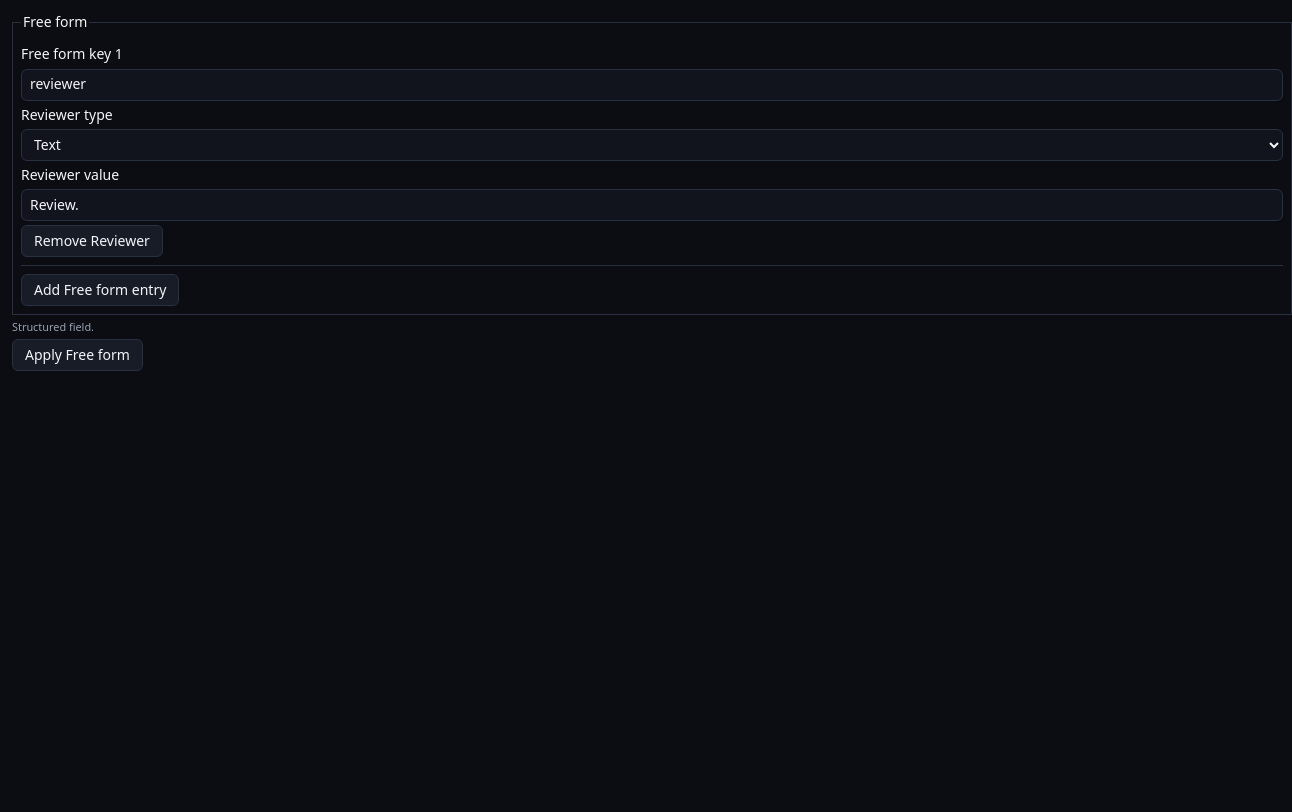
Test: recursive structured inspector controls › allows dynamic keys when additionalProperties is omitted and still enforces duplicate and property-name rules
Click the button "Add Free form entry" at (100, 290), box [21,274,179,306]
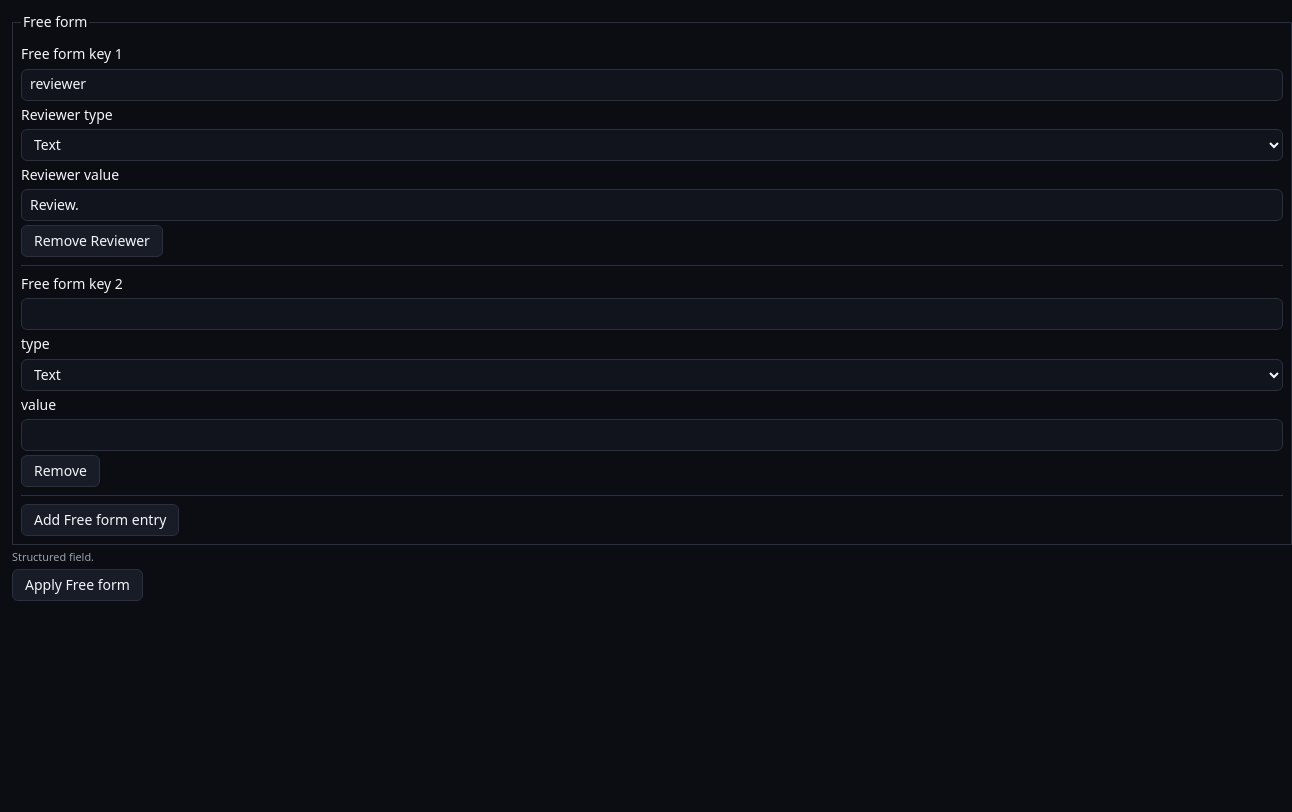
Type "reviewer" into the field labelled "Free form key 2" at (652, 314), box [21,298,1283,330]
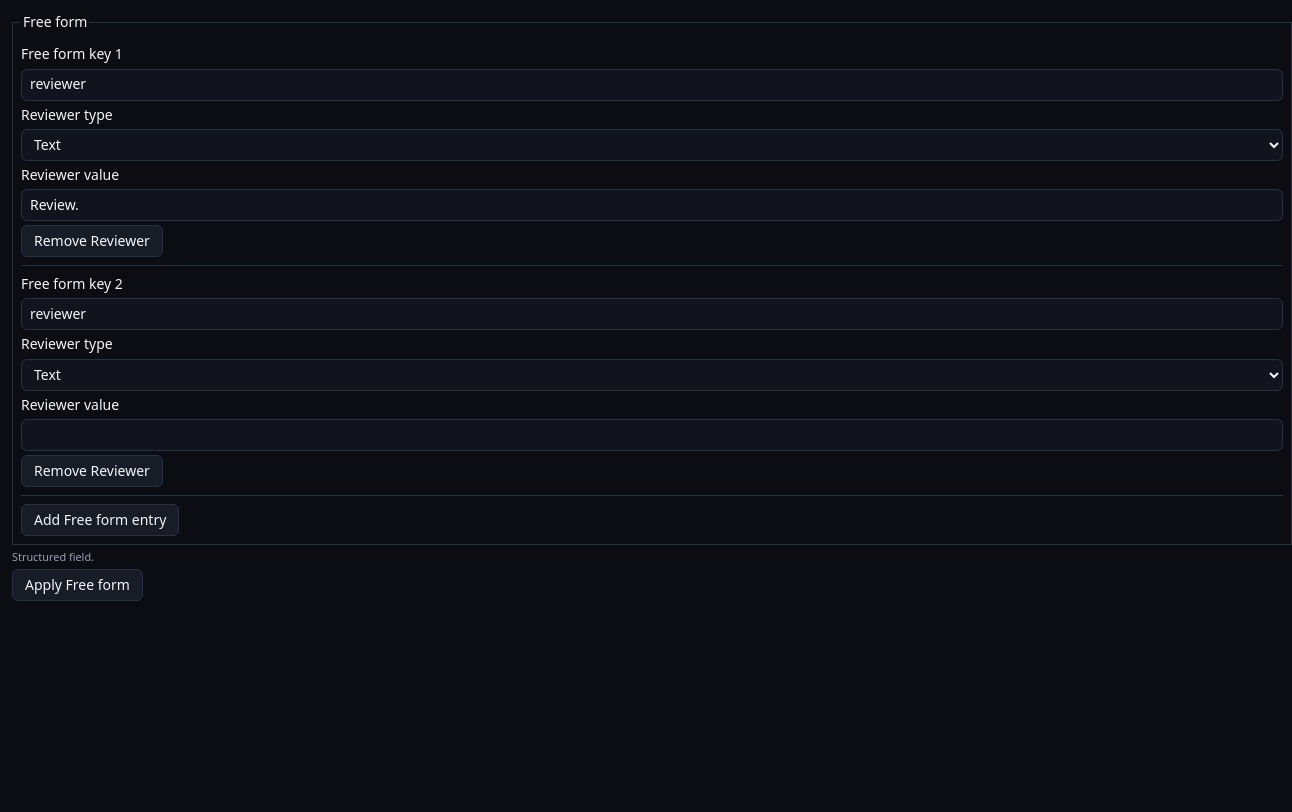
Click the button "Apply Free form" at (77, 585), box [12,569,143,601]
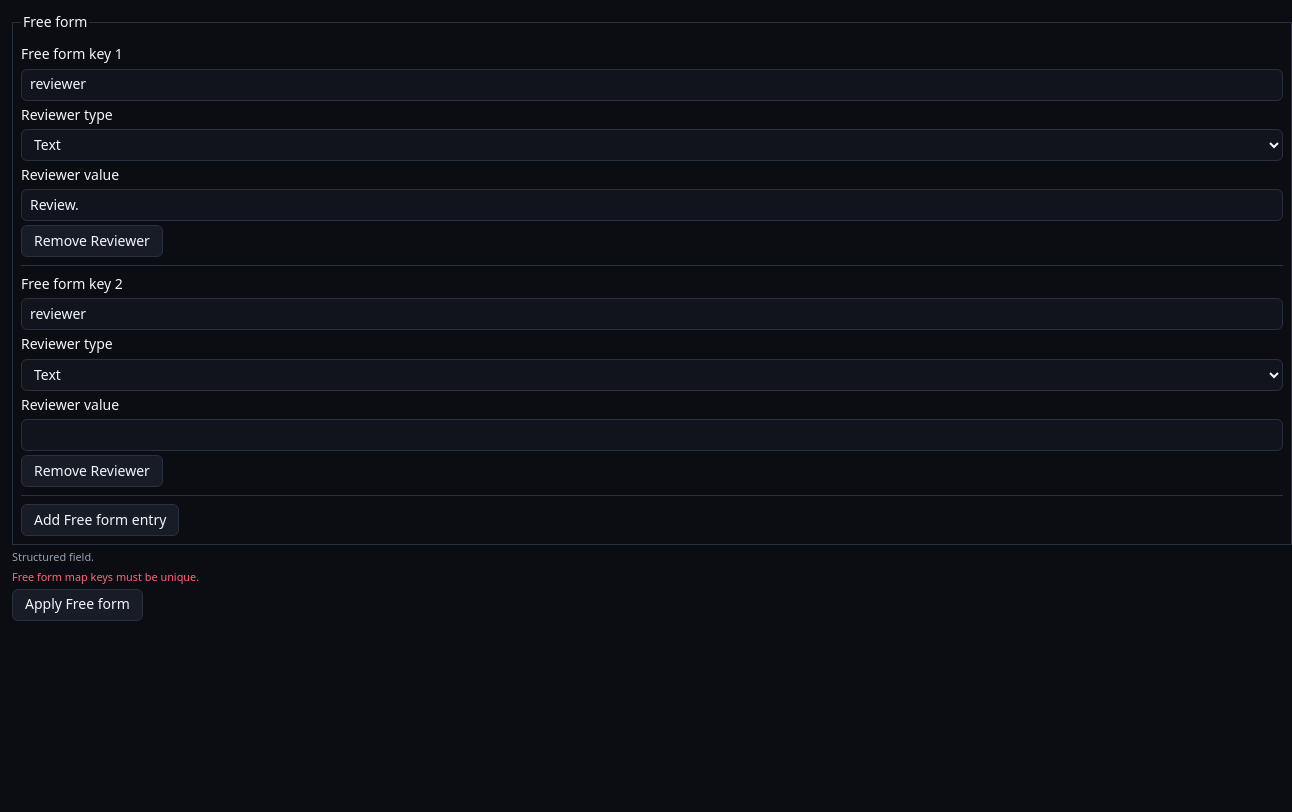
expect the message shows "map keys must be unique": met, box [12,569,199,584]
Replace the text in the field labelled "Free form key 2" with "Writer" at (652, 314), box [21,298,1283,330]
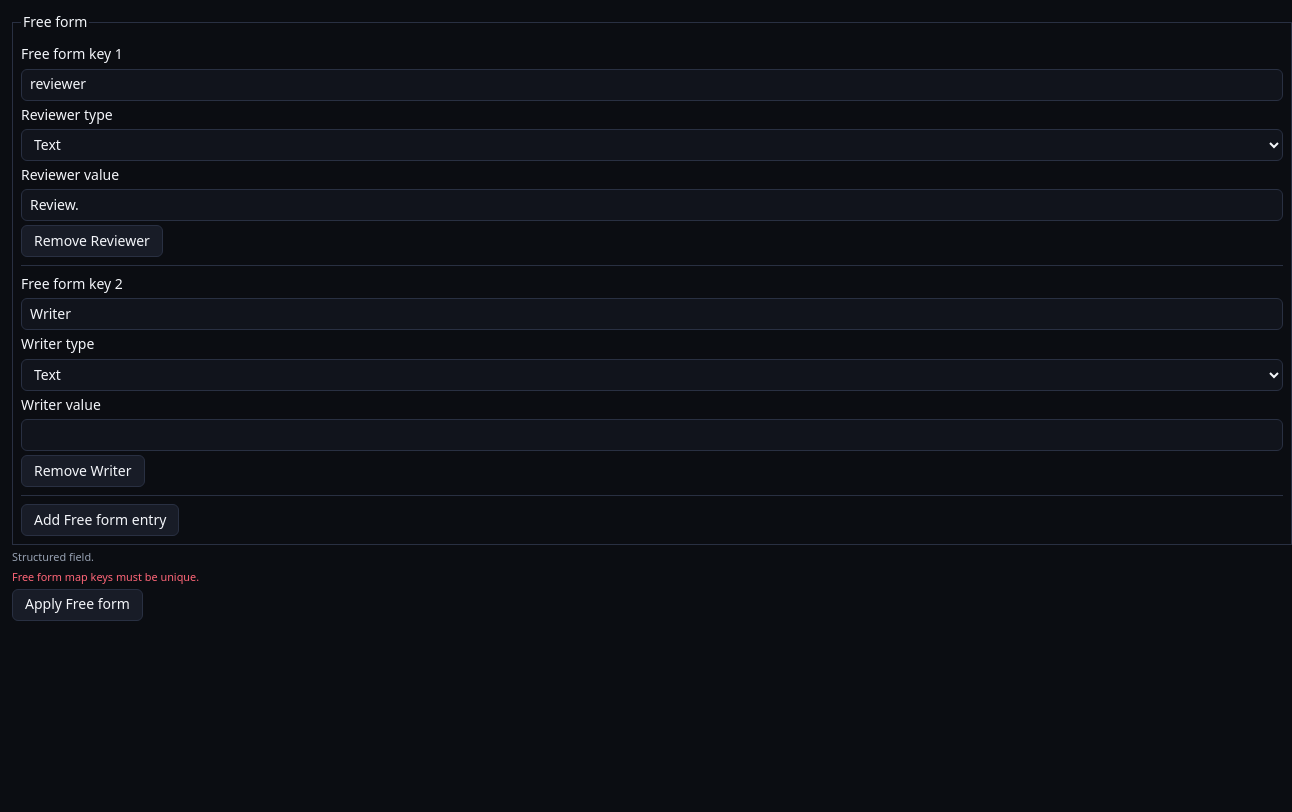
Click the button "Apply Free form" at (77, 605), box [12,589,143,621]
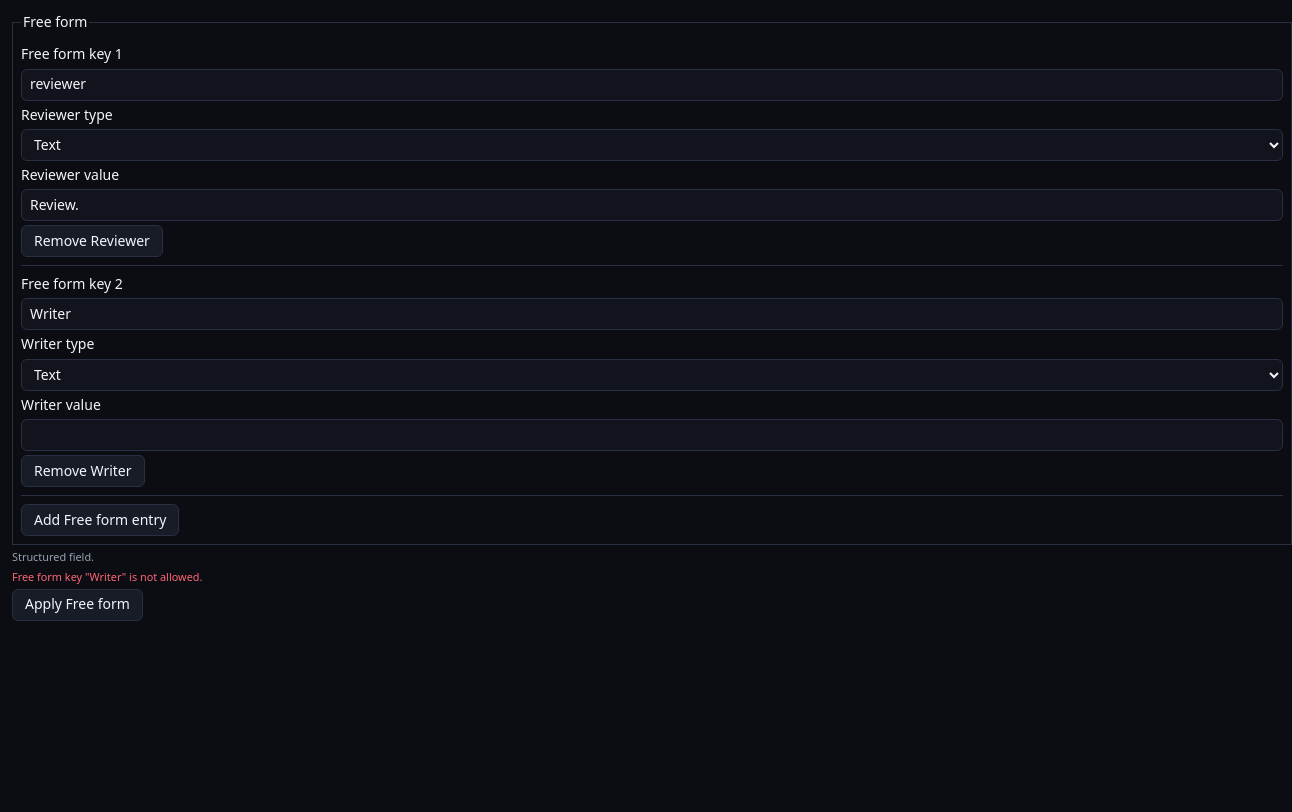
expect the message shows "key \"Writer\" is not allowed": met, box [12,569,202,584]
